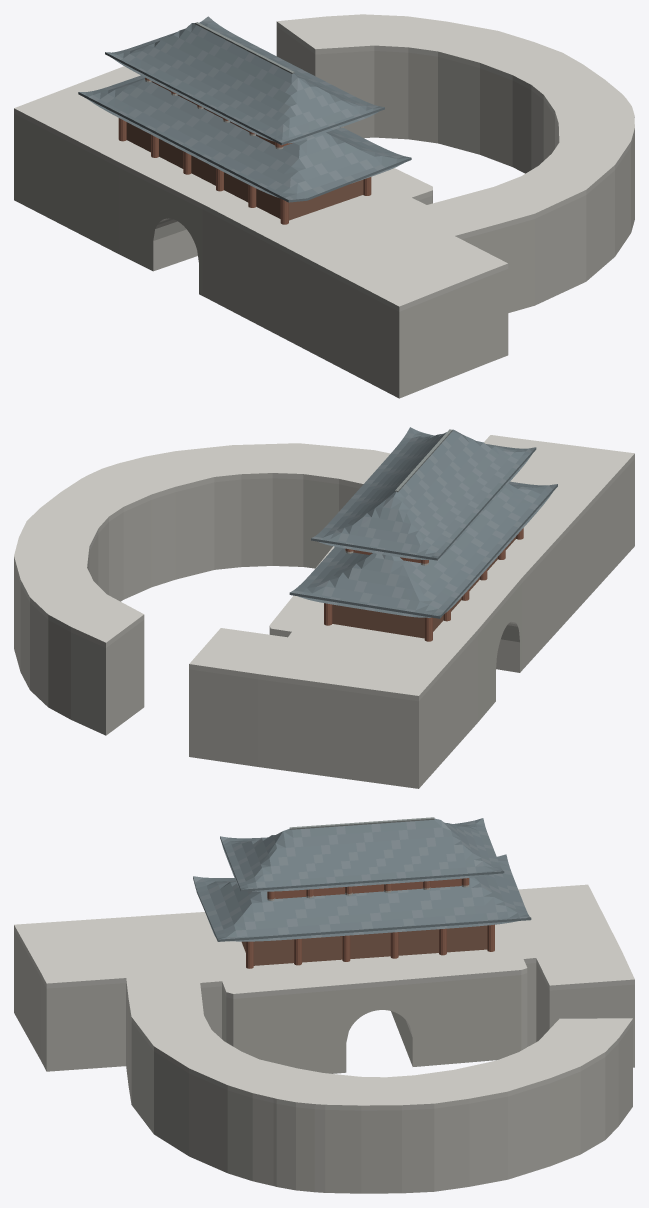
The model's file is civic-c4dc82c9-db6b-47dc-8cd5-bc8488012ae6.glb.
The picture shows the model from 3 angles, top to bottom: view 1: azimuth 30°, elevation 25°; view 2: azimuth 150°, elevation 25°; view 3: azimuth 270°, elevation 25°; orthographic projection. The views are drawn at different scales.
Parts seen in each view (by area): view 1: civic-c4dc82c9-db6b-47dc-8cd5-bc8488012ae6; view 2: civic-c4dc82c9-db6b-47dc-8cd5-bc8488012ae6; view 3: civic-c4dc82c9-db6b-47dc-8cd5-bc8488012ae6.
Boxes of the visible parts, <box> form: civic-c4dc82c9-db6b-47dc-8cd5-bc8488012ae6: <box>14,14,634,398</box>; civic-c4dc82c9-db6b-47dc-8cd5-bc8488012ae6: <box>14,427,634,788</box>; civic-c4dc82c9-db6b-47dc-8cd5-bc8488012ae6: <box>14,817,634,1193</box>.
Size of the model in its own units: 46.76 by 20 by 55.54.
